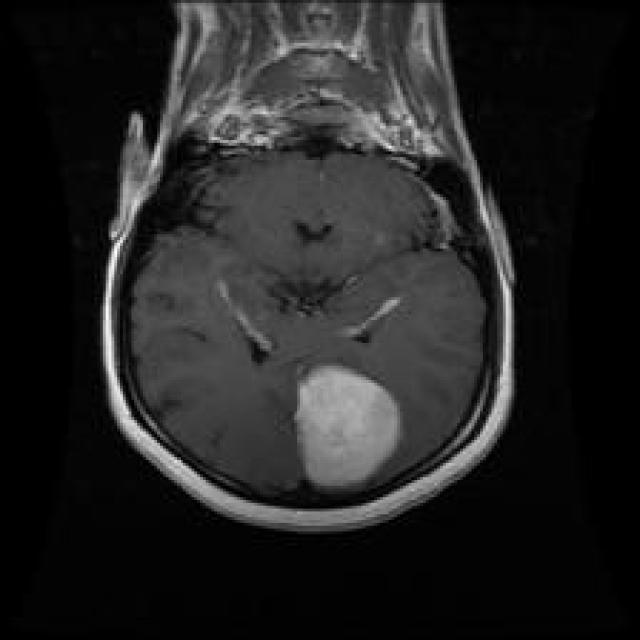meningioma_tumor: (284, 347, 417, 499)
